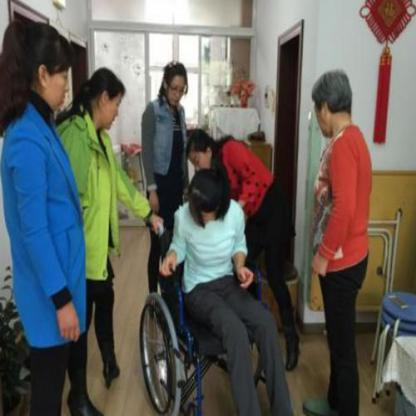wheelchair: (140, 169, 290, 415)
